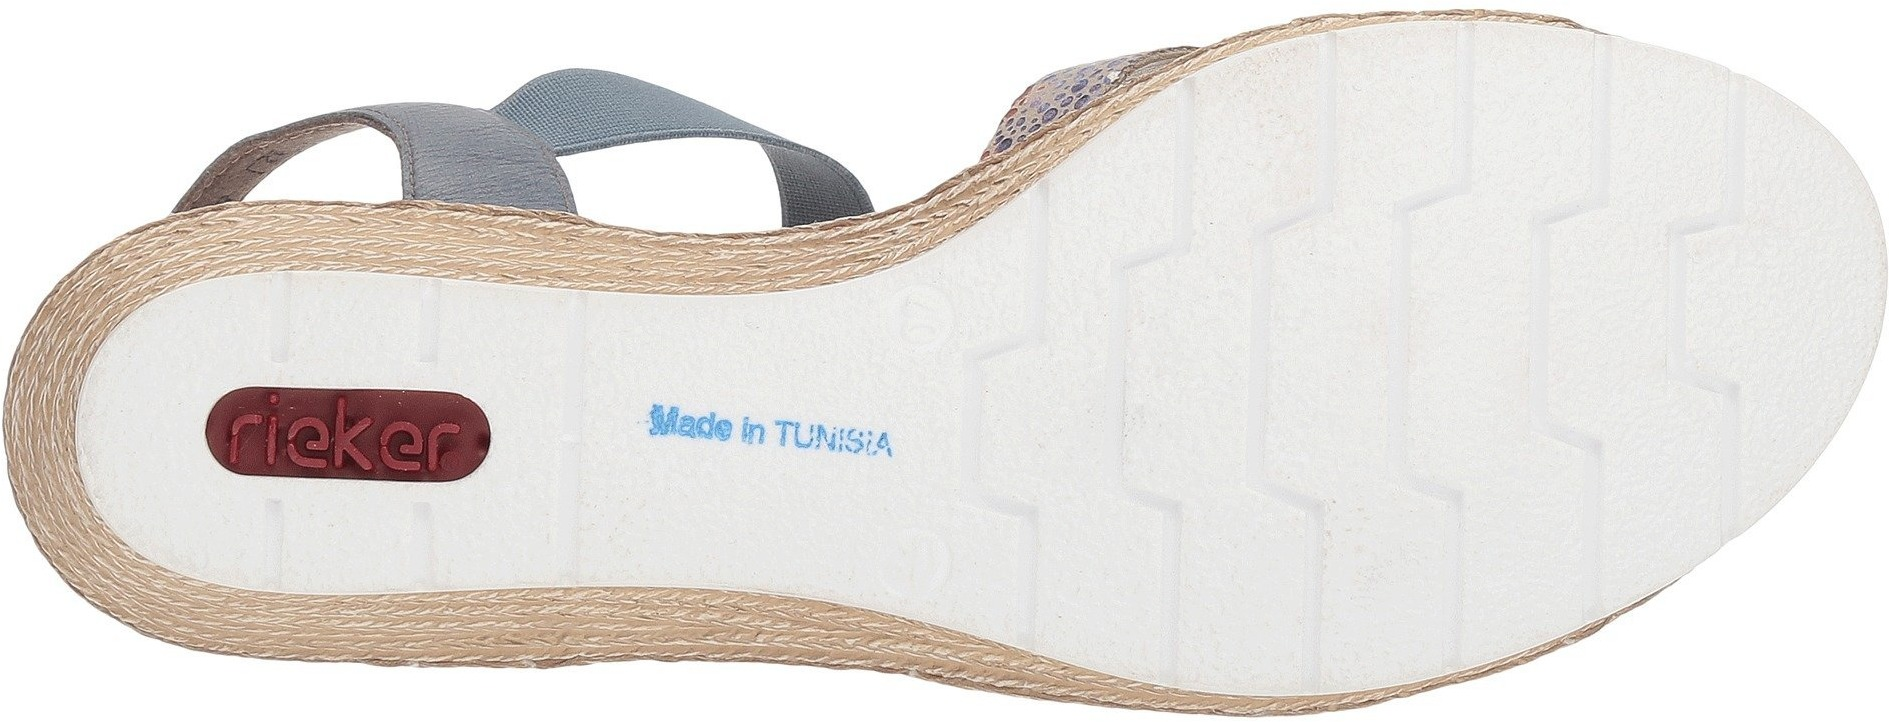text: (761, 392, 904, 515), (233, 389, 361, 483), (652, 378, 747, 485), (373, 389, 469, 494)
